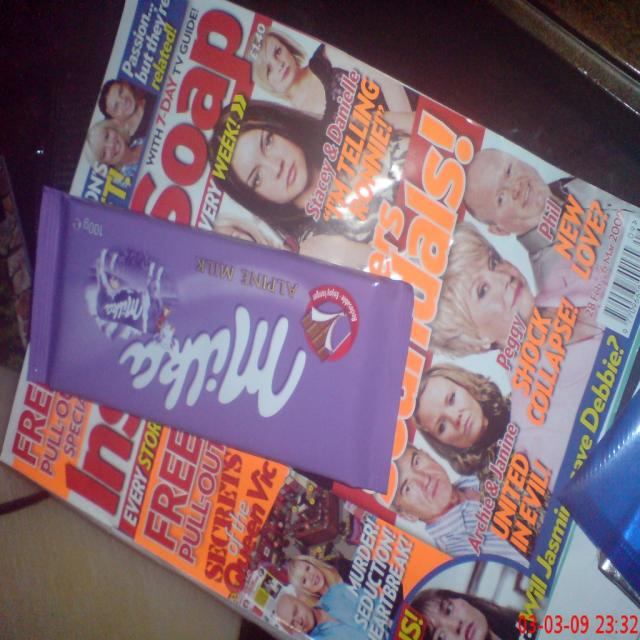milka: (81, 244, 311, 422)
